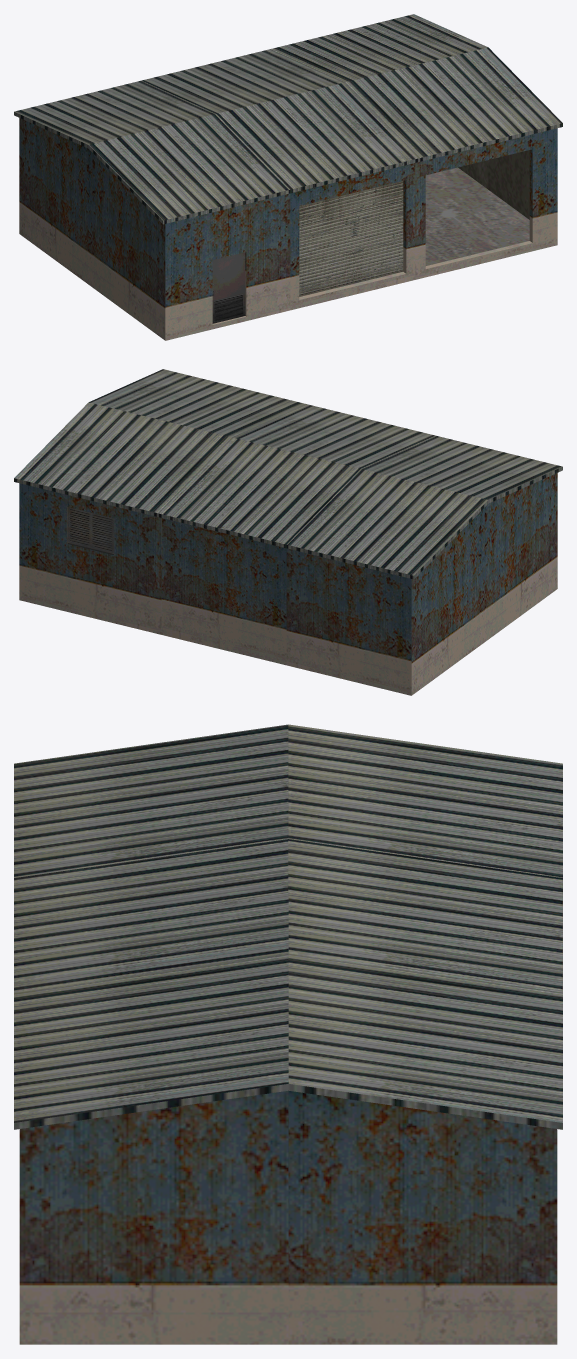
Rendered from 03_garage.glb.
3 views of the same model, one above another, from view 1: azimuth 30°, elevation 25°; view 2: azimuth 150°, elevation 25°; view 3: azimuth 270°, elevation 25° (orthographic). The views are drawn at different scales.
Visible parts, largest first — view 1: Cube; view 2: Cube; view 3: Cube.
Part boxes in pixels (x1,y1,x2,y2): Cube: [14, 14, 562, 340]; Cube: [14, 369, 562, 695]; Cube: [14, 724, 562, 1344].
Bounding box in the file's own units: 29.72 × 10.19 × 19.19.
1 material, 1 textured.
